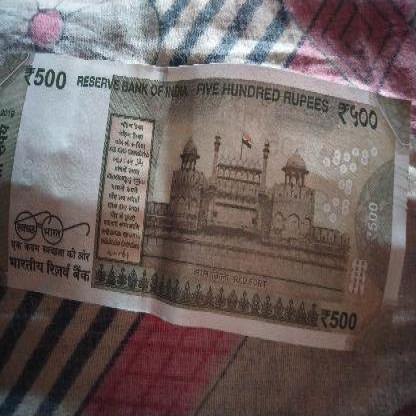New500Back: (0, 48, 409, 346)
